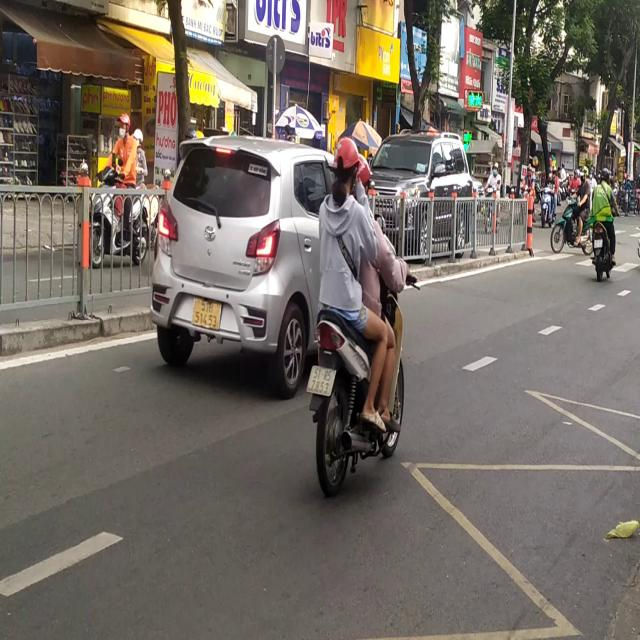bien_trang: (306, 359, 334, 398)
bien_vang: (191, 289, 222, 334)
